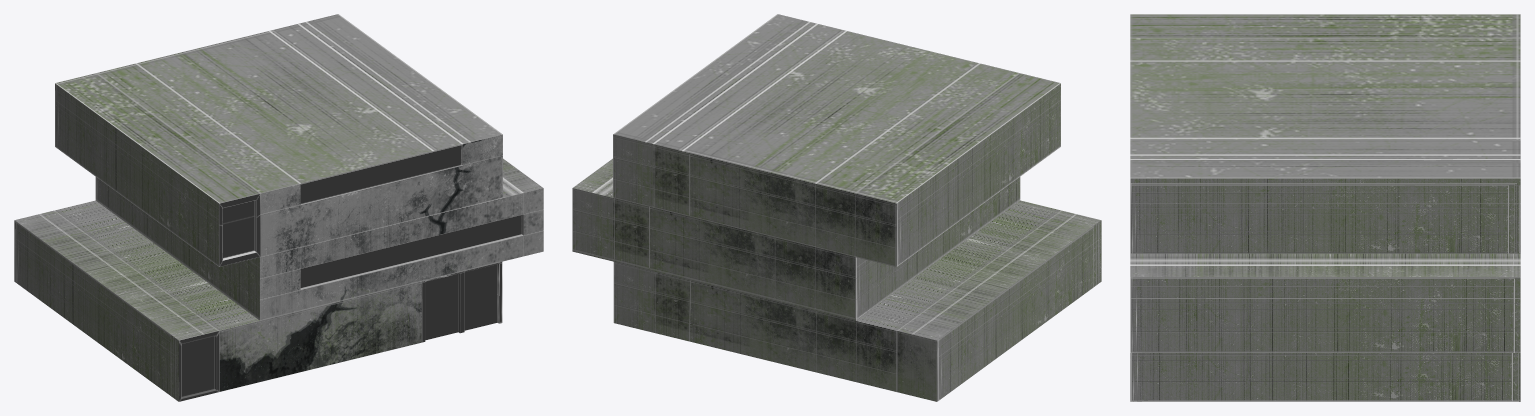
The model's file is mod_modul3_del1_uppdaterad.fbx.
The picture shows the model from 3 angles, left to right: view 1: azimuth 30°, elevation 25°; view 2: azimuth 150°, elevation 25°; view 3: azimuth 270°, elevation 25°; orthographic projection. The views are drawn at different scales.
Visible parts, largest first — view 1: modul3del1; view 2: modul3del1; view 3: modul3del1.
Part boxes in pixels (left/top/right/bottom): modul3del1: left=14, top=14, right=543, bottom=401; modul3del1: left=572, top=14, right=1101, bottom=401; modul3del1: left=1130, top=14, right=1520, bottom=401.
Size of the model in its own units: 1801 by 890 by 1407.
